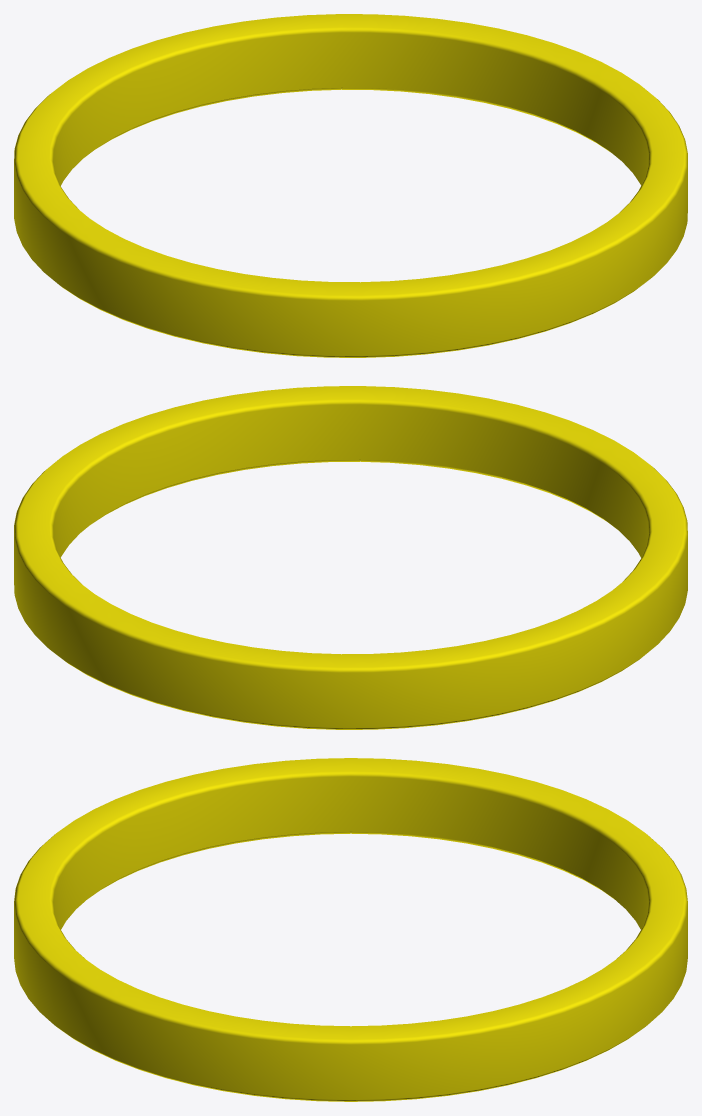
3 views of the same model, one above another, from view 1: azimuth 30°, elevation 25°; view 2: azimuth 150°, elevation 25°; view 3: azimuth 270°, elevation 25° (orthographic).
Visible parts, largest first — view 1: seal_body; view 2: seal_body; view 3: seal_body.
Part boxes in pixels (box(x1,y1,x2,y2)): seal_body: box(14, 14, 687, 357); seal_body: box(14, 386, 687, 729); seal_body: box(14, 758, 687, 1101).
Bounding box in the file's own units: 0.0683 × 0.007 × 0.0683.
